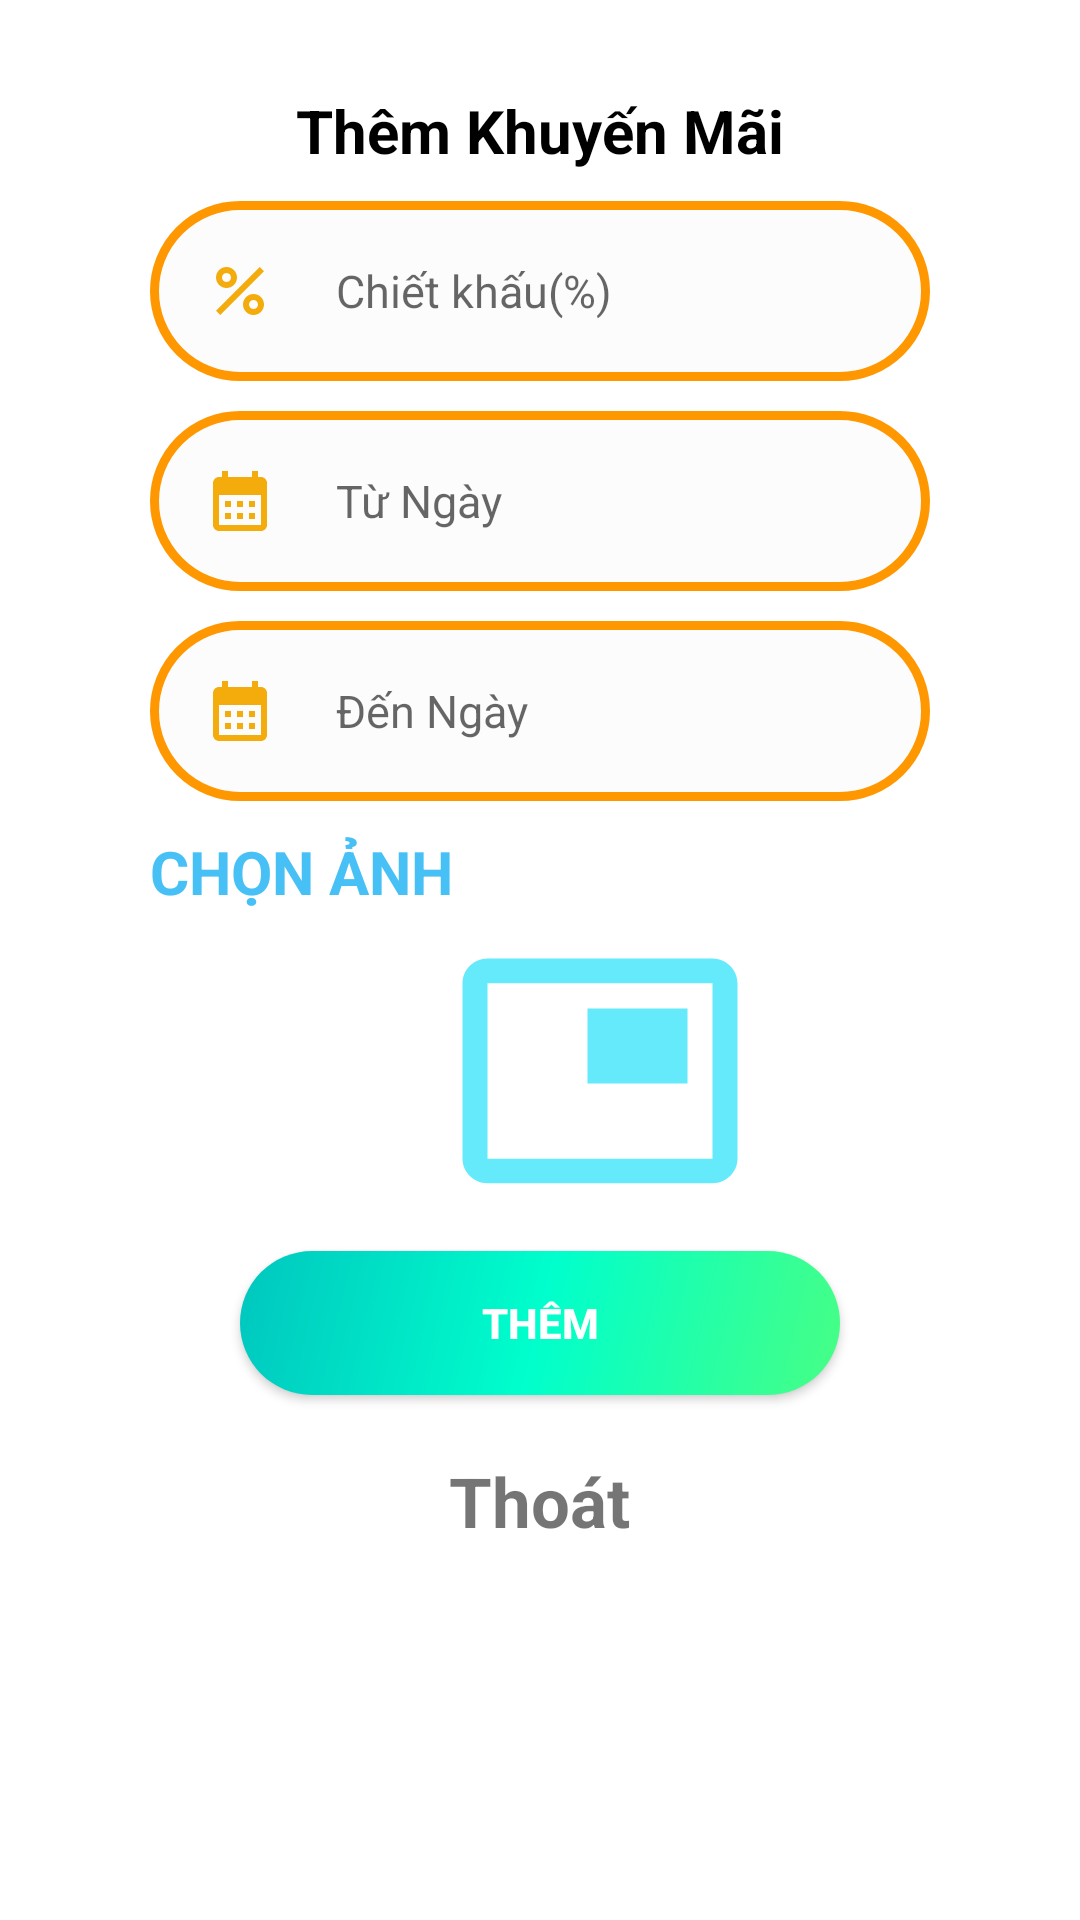

Icon click points for this 1080px x 1920px phone screenshot, format point (x, y):
picture in: point (600, 1071)
